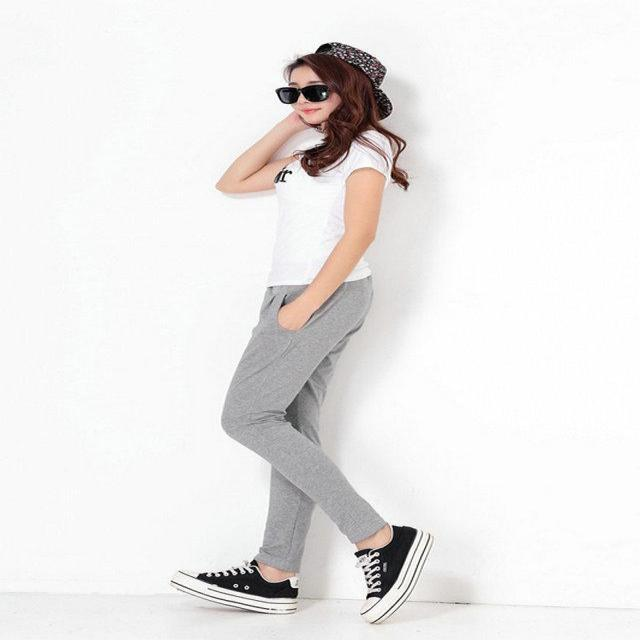short sleeve top: (267, 134, 385, 288)
trousers: (275, 252, 360, 390)
